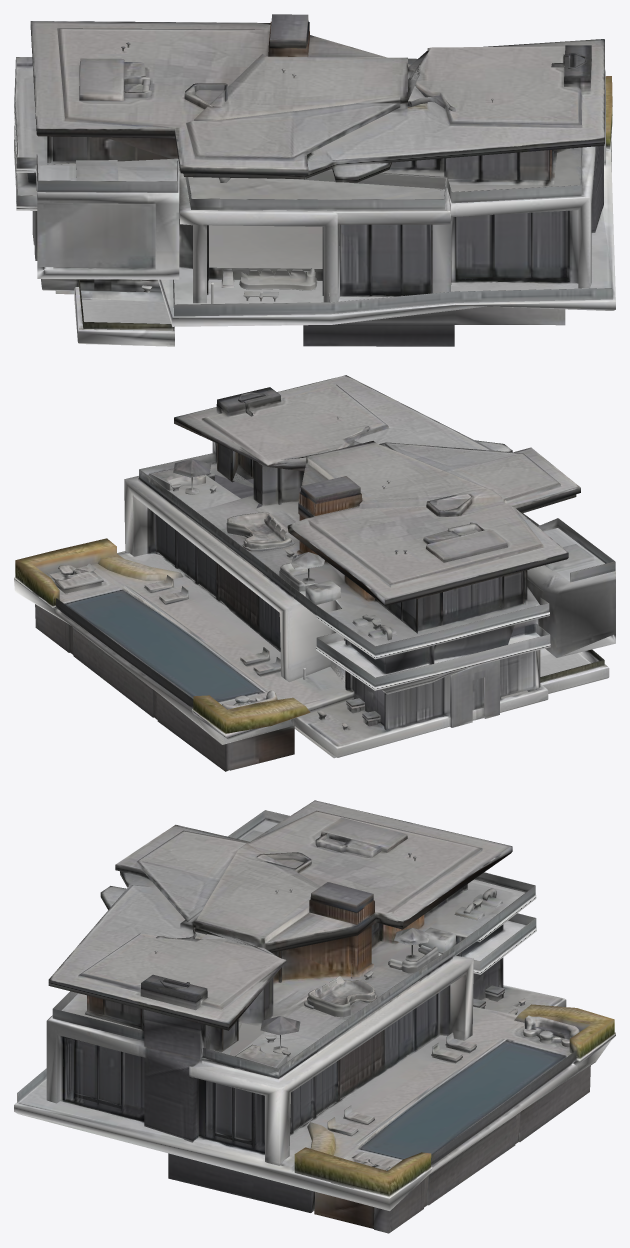
File: town-villa.1024.glb
3 renders of one model, top to bottom at view 1: azimuth 30°, elevation 25°; view 2: azimuth 150°, elevation 25°; view 3: azimuth 270°, elevation 25°, orthographic. The views are drawn at different scales.
Visible parts, largest first — view 1: tripo_node_df255681-6747-4f0c-b517-5ba464e79c3f; view 2: tripo_node_df255681-6747-4f0c-b517-5ba464e79c3f; view 3: tripo_node_df255681-6747-4f0c-b517-5ba464e79c3f.
Part boxes in pixels (x1,y1,x2,y2): tripo_node_df255681-6747-4f0c-b517-5ba464e79c3f: (14, 14, 615, 346); tripo_node_df255681-6747-4f0c-b517-5ba464e79c3f: (14, 375, 615, 771); tripo_node_df255681-6747-4f0c-b517-5ba464e79c3f: (14, 800, 615, 1233).
Bounding box in the file's own units: 0.9995 × 0.3442 × 0.9165.
Materials: 1 (1 with a texture image).
